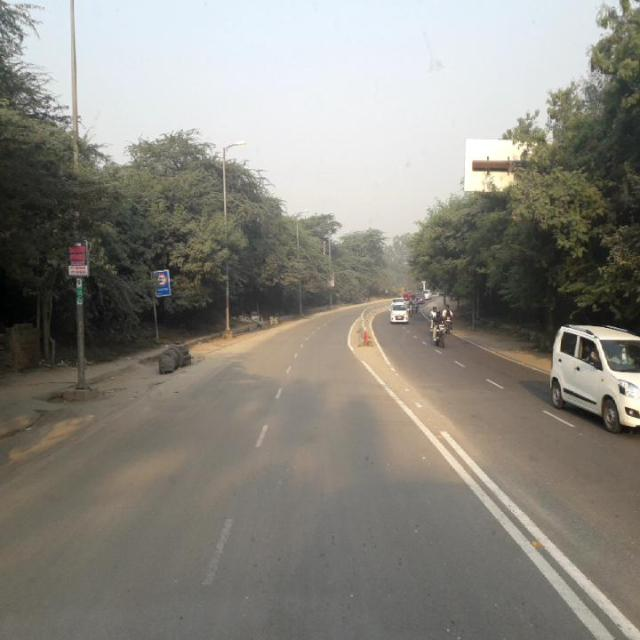D44: (192, 497, 245, 595)
